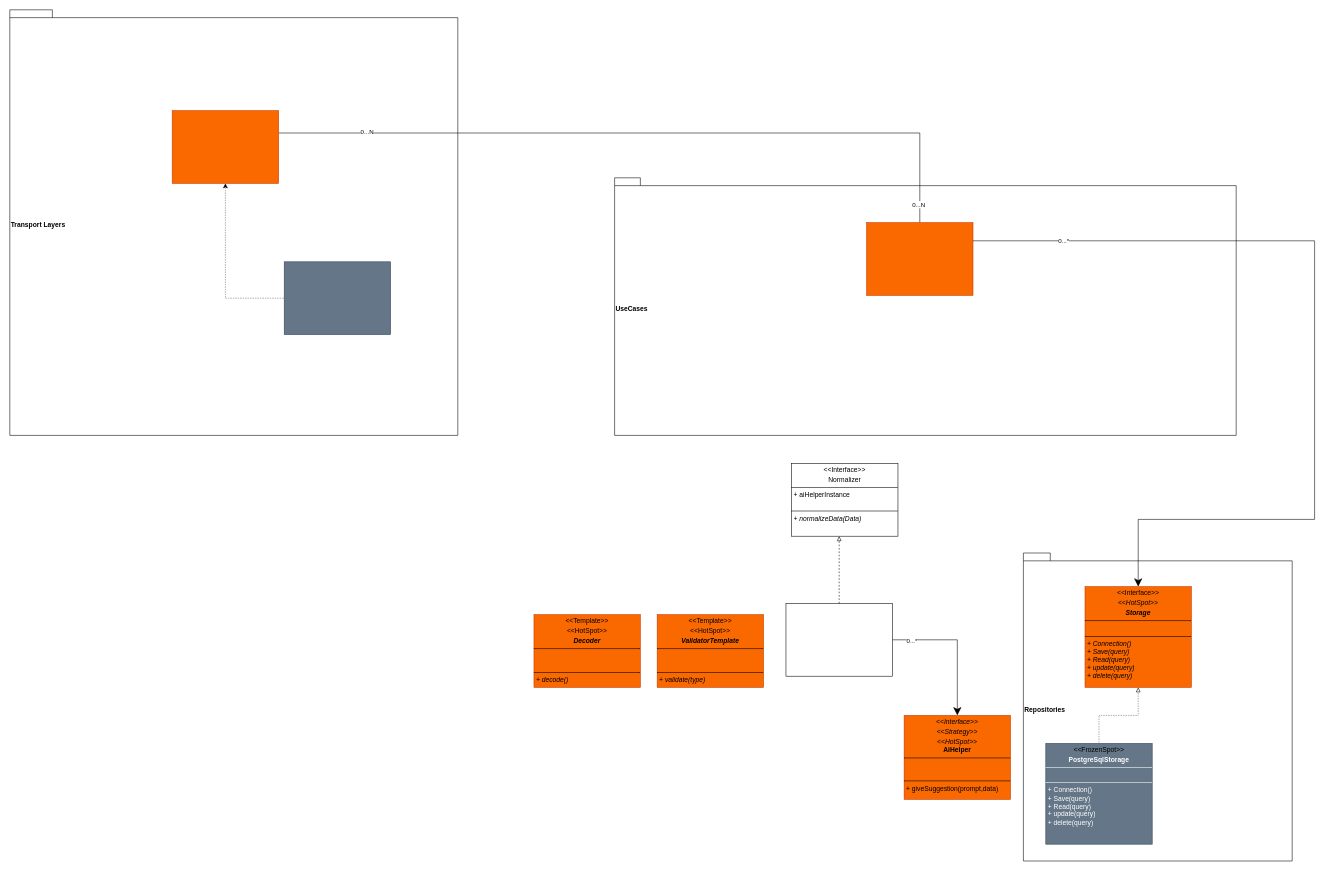
The diagram is 1332 pixels wide and 871 high, and some of its shapes have lost their labels. The centre of each missing label's shape, as x and y in pixels:
"<<FrozenSpot>> RestController + executeServer()" goes at point 337,298.
"<<Interface>> <<HotSpot>> Adapter + executeServer()" goes at point 225,146.
"<<Interface>> <<HotSpot>> healthCareUsecase + execute()" goes at point 919,258.
"<<Template>> Normalizer + aiHelperInstance + normalizeData(Data)" goes at point 838,639.
